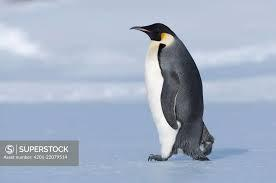emporer: (123, 18, 223, 163)
